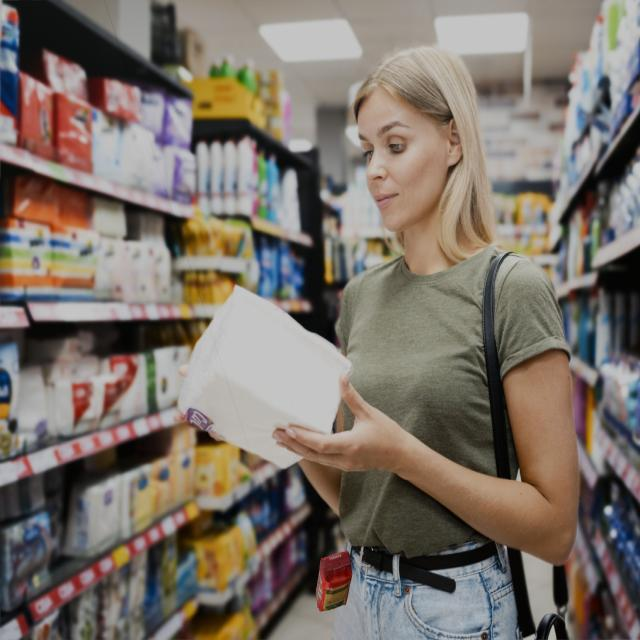mate bag: (318, 550, 353, 608)
